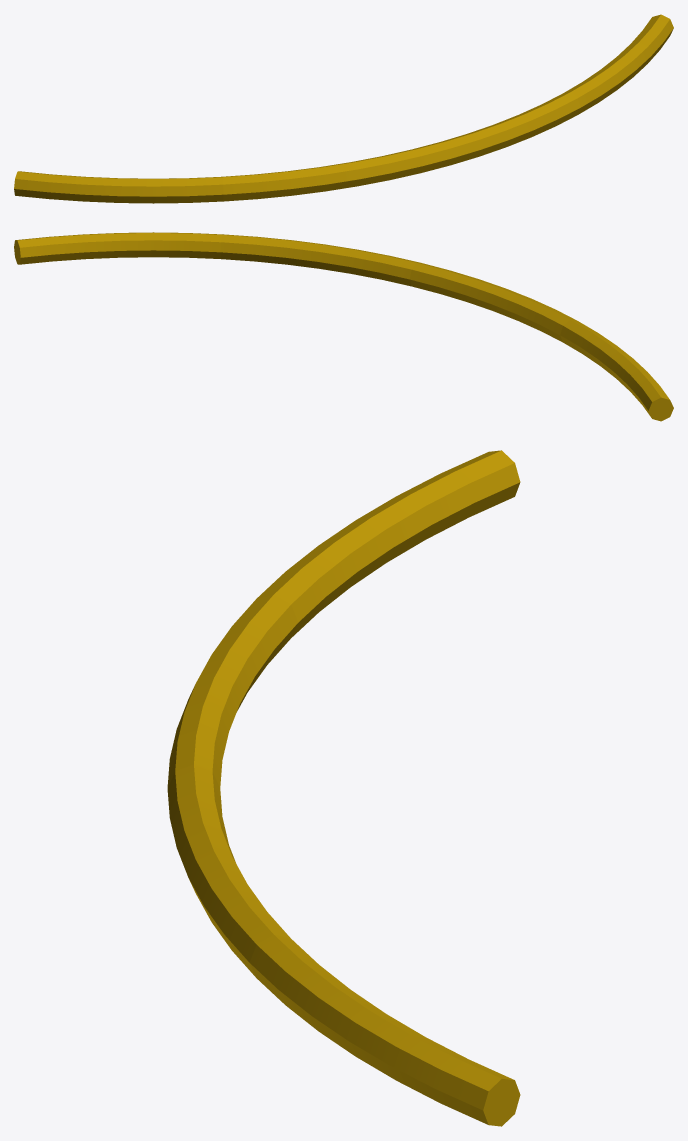
Rendered from Shower_Pipe_02.fbx.
3 views of the same model, one above another, from view 1: azimuth 30°, elevation 25°; view 2: azimuth 150°, elevation 25°; view 3: azimuth 270°, elevation 25° (orthographic). The views are drawn at different scales.
Parts seen in each view (by area): view 1: Shower_Pipe_02; view 2: Shower_Pipe_02; view 3: Shower_Pipe_02.
Boxes of the visible parts, x1,y1,x2,y2 form: Shower_Pipe_02: (14, 14, 673, 203); Shower_Pipe_02: (14, 232, 673, 421); Shower_Pipe_02: (167, 450, 520, 1126).
Size of the model in its own units: 552 by 19.11 by 128.
